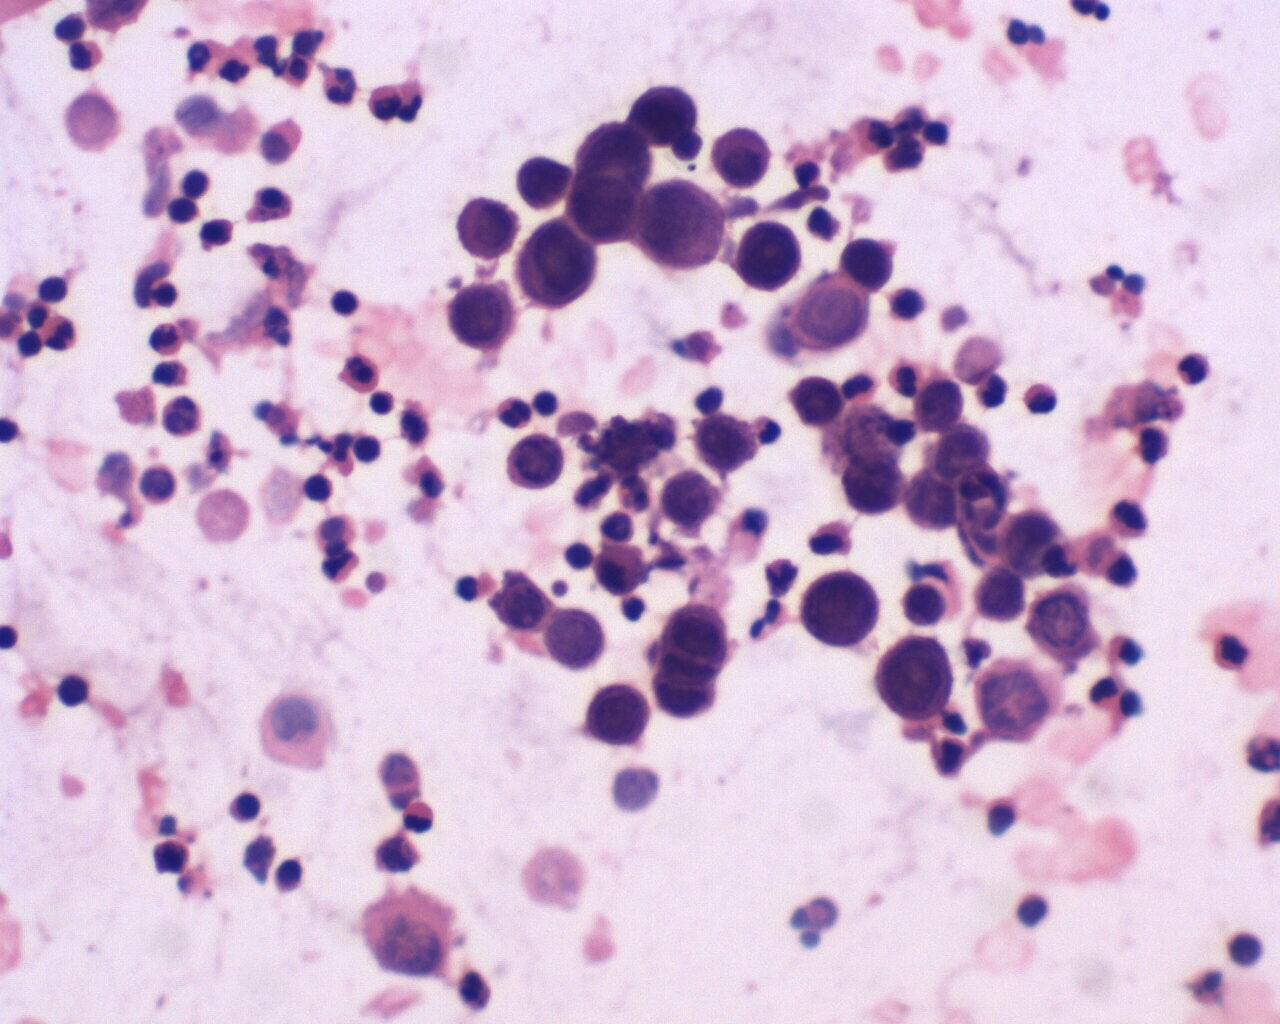ab: (638, 179, 731, 274), (654, 601, 729, 718), (519, 222, 603, 313), (794, 567, 878, 653), (876, 634, 956, 720), (627, 79, 699, 155), (445, 282, 516, 354), (734, 220, 804, 293), (544, 605, 609, 673), (587, 683, 651, 746), (457, 197, 519, 261), (694, 415, 759, 474), (657, 468, 718, 530), (506, 432, 563, 493), (515, 152, 574, 209), (791, 372, 846, 428), (839, 234, 893, 290), (977, 566, 1027, 626), (913, 378, 967, 433)
lymph: (177, 162, 213, 203), (301, 471, 334, 505), (331, 289, 358, 318)
neutro: (143, 318, 188, 360), (319, 60, 359, 104), (64, 41, 103, 75), (403, 801, 437, 836)
